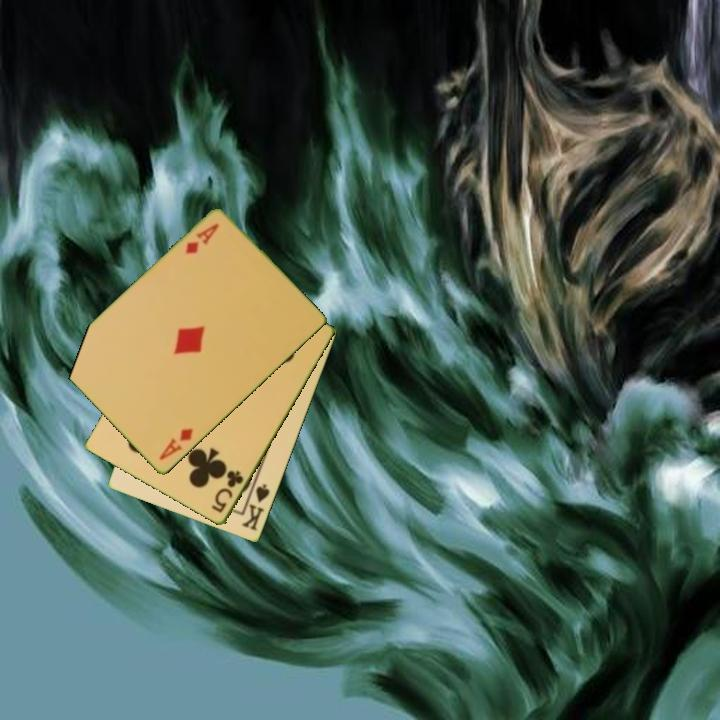5c: (208, 467, 247, 516)
Ad: (155, 425, 196, 463), (181, 220, 222, 258)
Ks: (238, 477, 273, 534)
